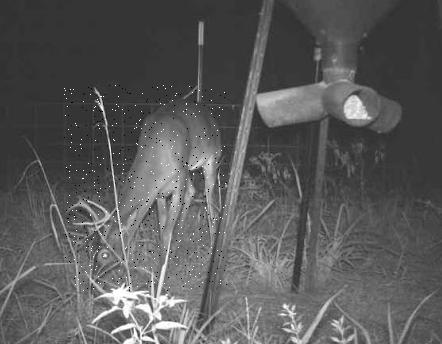Deer: (64, 85, 227, 291)
